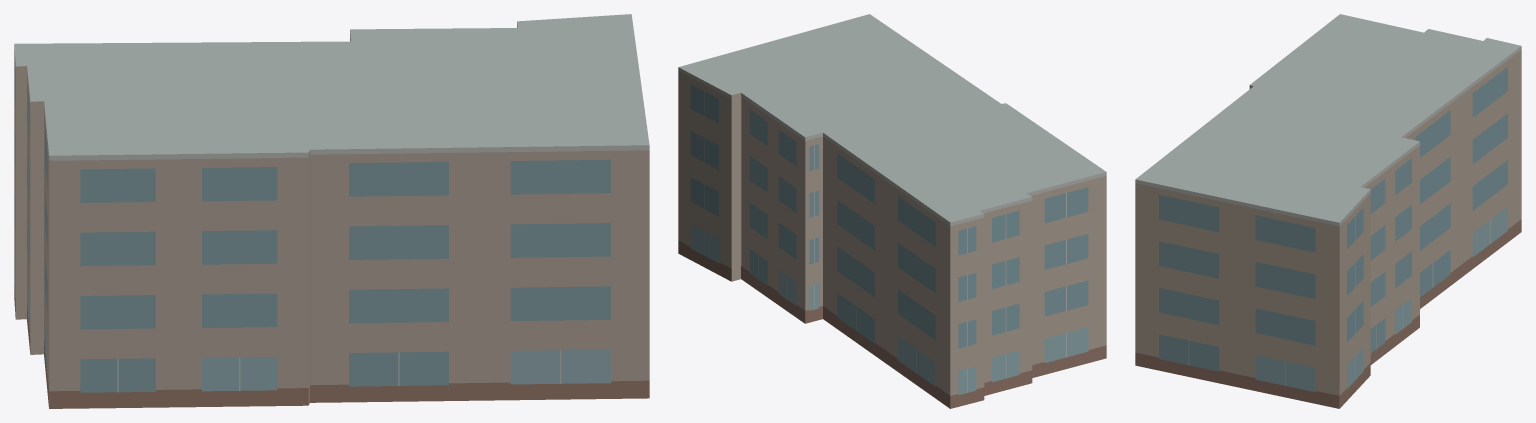
The model's file is survey-upis-32492711.glb.
3 views of the same model, side by side, from view 1: azimuth 30°, elevation 25°; view 2: azimuth 150°, elevation 25°; view 3: azimuth 270°, elevation 25° (orthographic). The views are drawn at different scales.
Visible parts, largest first — view 1: survey-upis-32492711.tmp; view 2: survey-upis-32492711.tmp; view 3: survey-upis-32492711.tmp.
Part boxes in pixels (x1,y1,x2,y2): survey-upis-32492711.tmp: (14, 14, 649, 408); survey-upis-32492711.tmp: (678, 14, 1106, 408); survey-upis-32492711.tmp: (1135, 14, 1521, 408).
Size of the model in its own units: 29.37 by 12.2 by 22.97.
